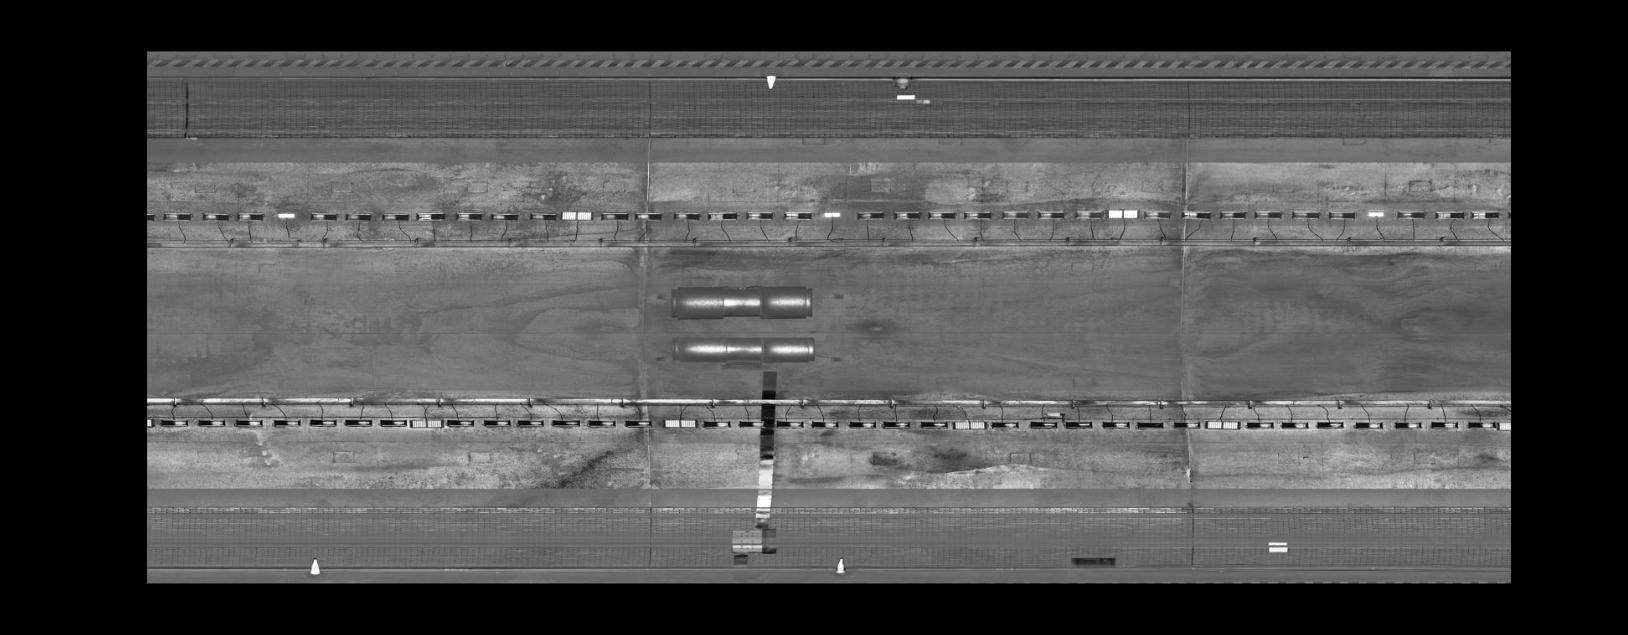light: (412, 210, 447, 224), (560, 209, 595, 223), (597, 209, 630, 223), (408, 417, 446, 430), (660, 417, 698, 430), (452, 209, 483, 223), (1432, 209, 1468, 221), (1071, 208, 1105, 221), (705, 210, 740, 222), (950, 419, 988, 431), (1203, 419, 1242, 431), (161, 209, 193, 222), (488, 210, 520, 223), (632, 209, 664, 222), (670, 209, 702, 222), (1288, 208, 1321, 221), (1106, 208, 1140, 220), (1468, 209, 1502, 221), (235, 210, 266, 223), (380, 211, 411, 224), (925, 209, 958, 221), (960, 209, 994, 221), (1179, 209, 1213, 221), (742, 209, 775, 221), (999, 209, 1031, 221), (1034, 209, 1066, 221), (1252, 209, 1284, 221), (916, 417, 948, 430), (1062, 418, 1094, 431), (342, 211, 373, 223), (527, 211, 559, 223), (891, 210, 922, 222), (1326, 209, 1357, 221), (1394, 209, 1428, 220), (157, 416, 190, 427), (1133, 419, 1166, 431), (1170, 418, 1203, 430), (880, 418, 911, 431), (307, 211, 340, 222), (1142, 209, 1174, 220), (377, 416, 409, 427), (1277, 420, 1312, 431), (1351, 420, 1386, 431), (1427, 419, 1462, 430), (199, 211, 230, 222), (782, 209, 813, 220), (1216, 209, 1247, 220), (736, 418, 767, 430), (774, 419, 805, 431), (1391, 420, 1426, 431), (1312, 419, 1346, 430), (854, 210, 887, 220), (270, 417, 302, 427), (307, 417, 340, 427), (342, 417, 374, 427), (623, 418, 655, 429), (1026, 420, 1058, 431), (482, 417, 513, 427), (809, 419, 840, 430), (846, 419, 877, 430), (988, 420, 1020, 431), (1244, 420, 1275, 431), (232, 418, 266, 427), (701, 419, 731, 430), (194, 418, 227, 427), (549, 418, 582, 427), (584, 418, 617, 427), (1098, 420, 1132, 430), (1464, 420, 1497, 430), (443, 418, 474, 427), (515, 418, 545, 427), (273, 210, 297, 220), (1364, 210, 1388, 219), (822, 210, 843, 219), (147, 209, 157, 223), (1497, 420, 1510, 431), (147, 415, 155, 430)
